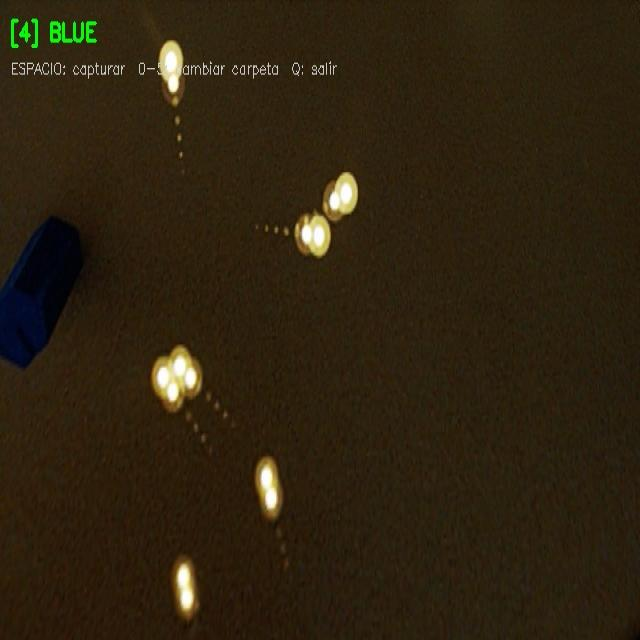blue: (0, 207, 89, 371)
